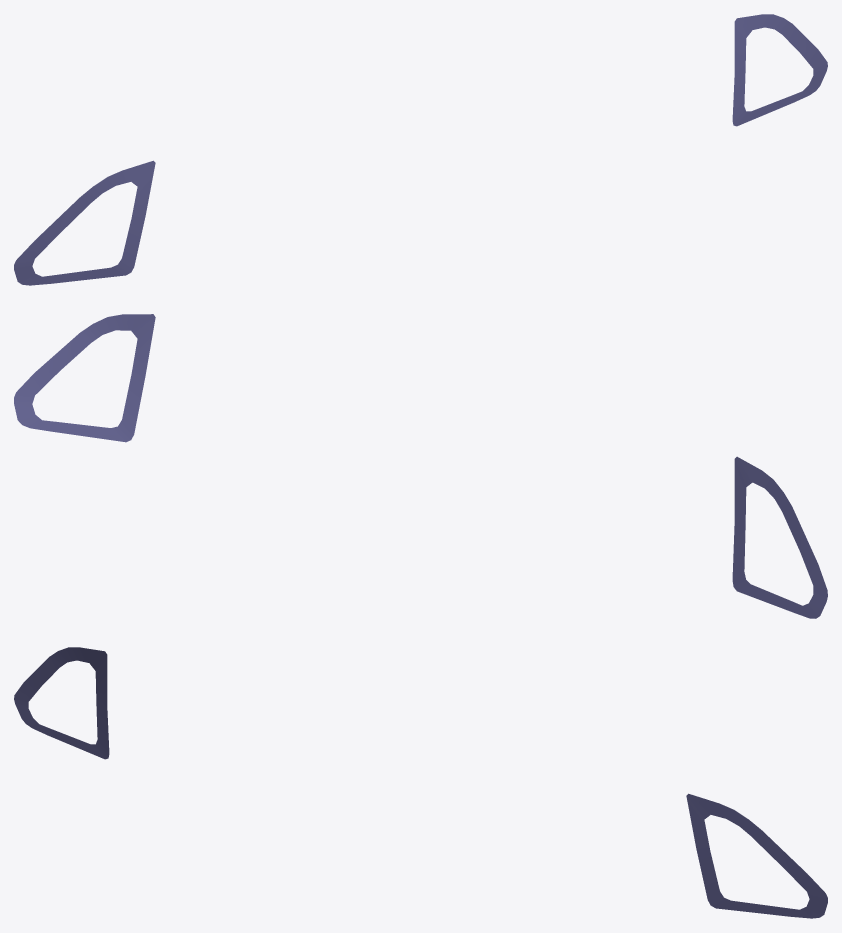
File: Mustang16_Grill_02_Detail.fbx
3 views of the same model, one above another, from view 1: azimuth 30°, elevation 25°; view 2: azimuth 150°, elevation 25°; view 3: azimuth 330°, elevation 25° (orthographic).
Parts seen in each view (by area): view 1: Mustang16_Grill_02_Detail; view 2: Mustang16_Grill_02_Detail; view 3: Mustang16_Grill_02_Detail.
Part boxes in pixels (x1,y1,x2,y2): Mustang16_Grill_02_Detail: (14, 14, 827, 285); Mustang16_Grill_02_Detail: (14, 314, 827, 618); Mustang16_Grill_02_Detail: (14, 647, 827, 918).
Size of the model in its own units: 105 by 14.97 by 5.87.
